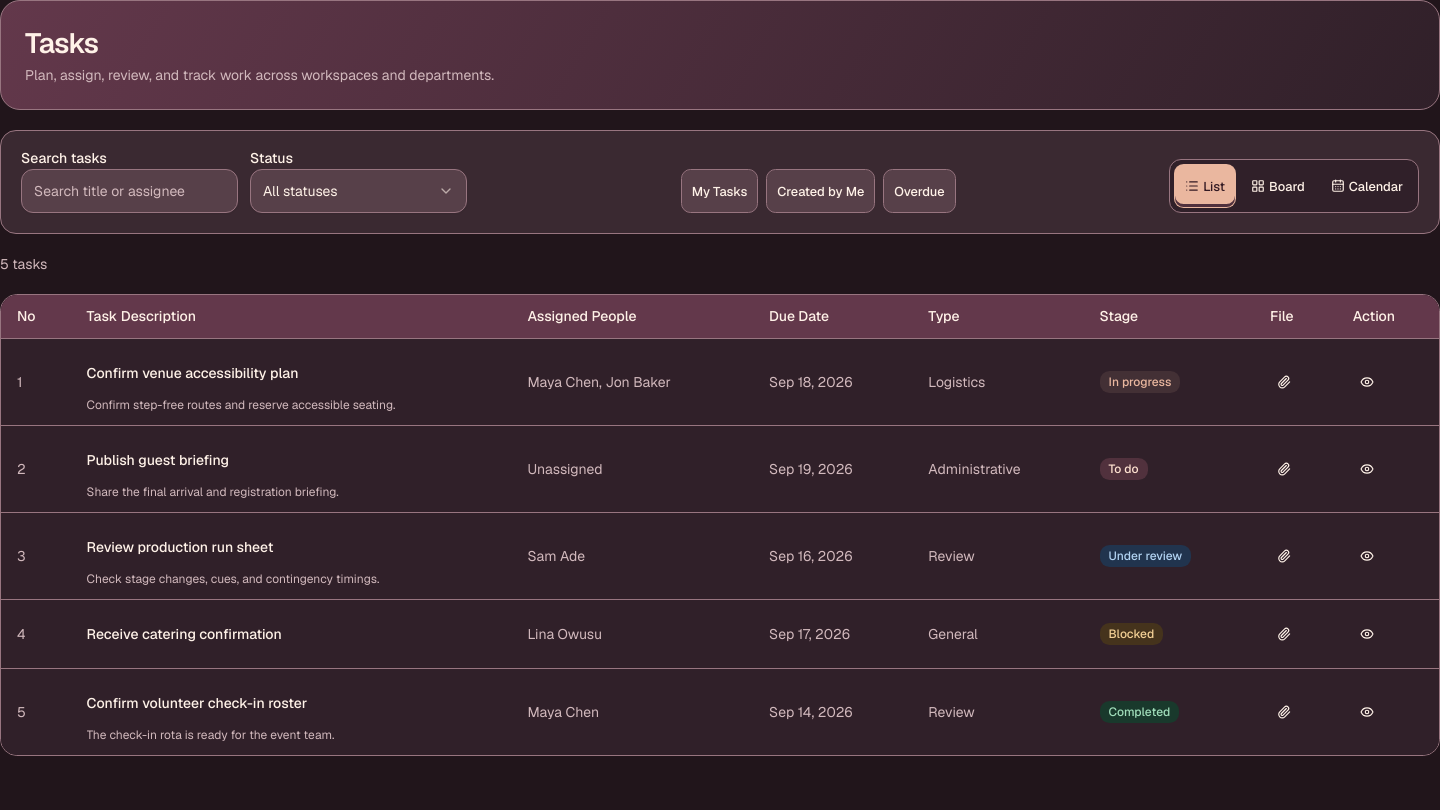
Test: TaskWorkspace › hides the download control for a file still pending verification
Click the button "Confirm venue accessibility plan": click(193, 373) [87,351,298,395]
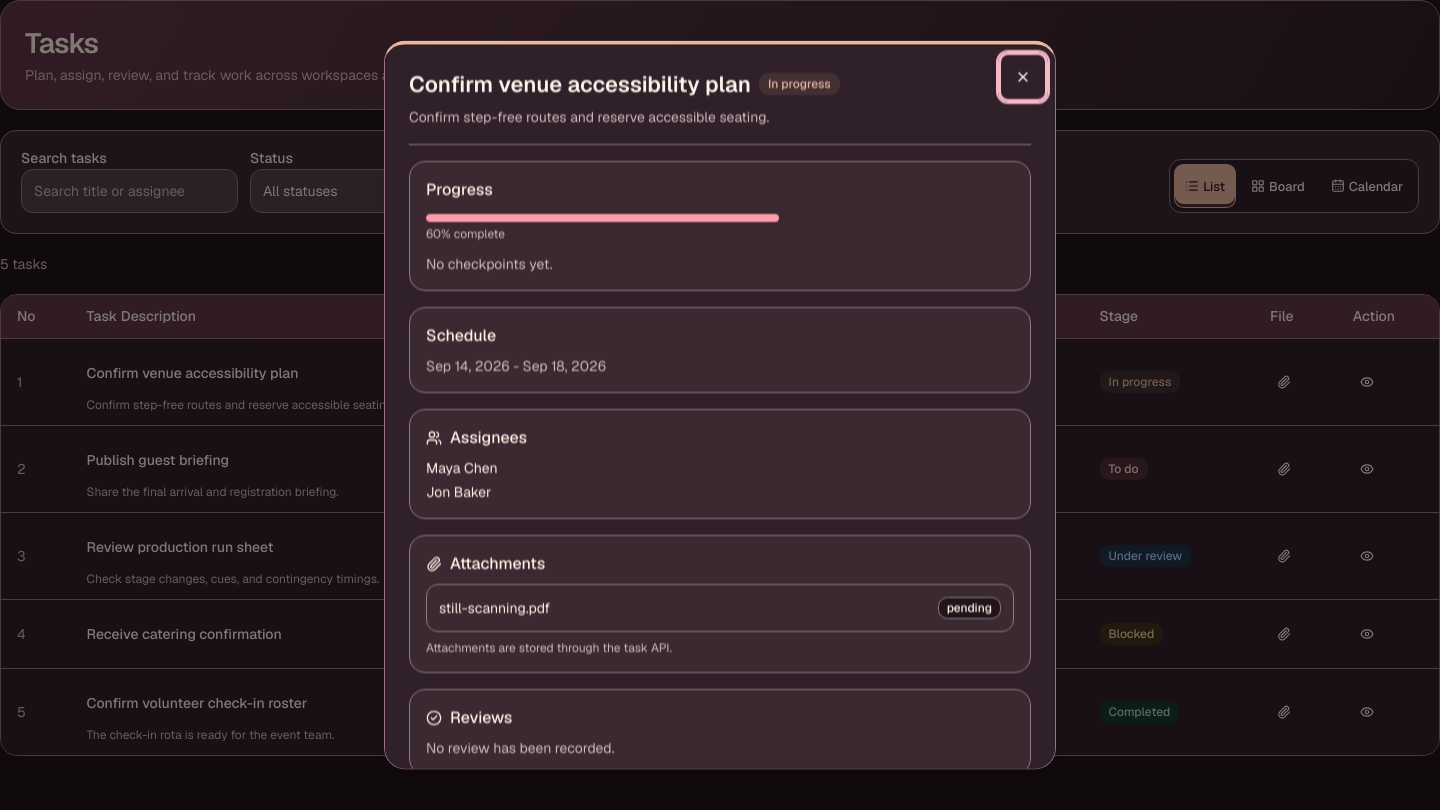
Now the dialog shows "still-scanning.pdf", box [439,599,550,617]
